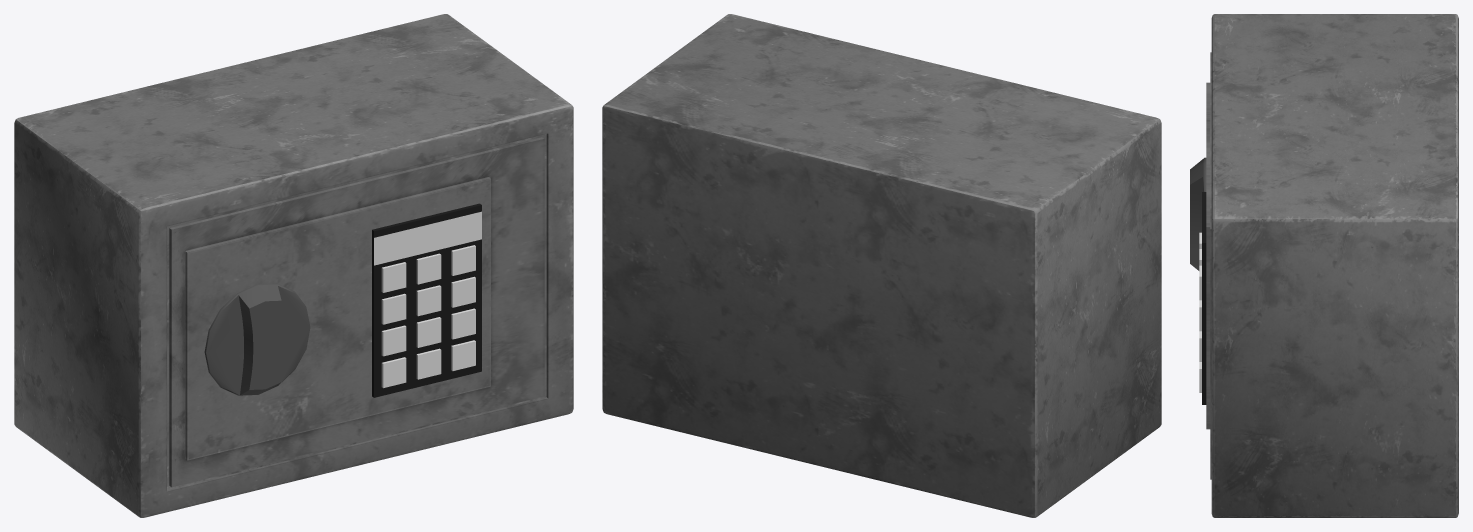
File: safe-onle.fbx
3 renders of one model, left to right at view 1: azimuth 30°, elevation 25°; view 2: azimuth 150°, elevation 25°; view 3: azimuth 270°, elevation 25°, orthographic. The views are drawn at different scales.
Parts seen in each view (by area): view 1: Cube.009, Cube.002, Cube.003, Cylinder.003; view 2: Cube.009; view 3: Cube.009, Cube.002, Cube.003, Cylinder.003.
Boxes of the visible parts, box(x1,y1,x2,y2) form: Cube.009: box(14, 14, 573, 517); Cube.002: box(167, 134, 546, 489); Cube.003: box(372, 203, 481, 397); Cylinder.003: box(204, 283, 310, 395); Cube.009: box(602, 14, 1161, 517); Cube.009: box(1211, 14, 1458, 517); Cube.002: box(1206, 52, 1211, 479); Cube.003: box(1199, 192, 1206, 404); Cylinder.003: box(1190, 157, 1206, 270).
Bounding box in the file's own units: 46.11 × 31.36 × 25.36.
4 materials, 1 textured.
